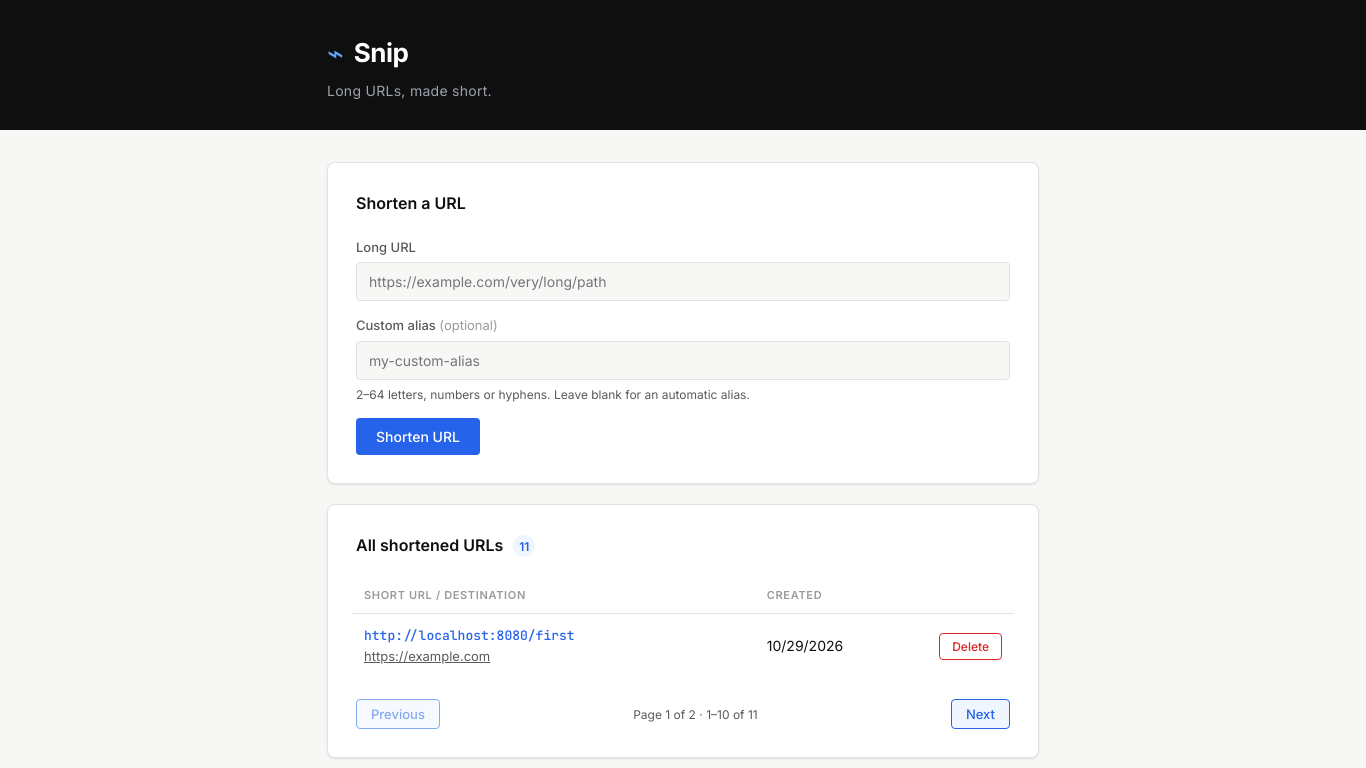
it: application behaviour › shows a created URL and returns to the newest page
Expected: the button with aria-label "Delete first" is shown, left=939, top=633, right=1002, bottom=660
Type "https://example.com" into the field labelled "Long URL" at (683, 282), box left=356, top=262, right=1010, bottom=301
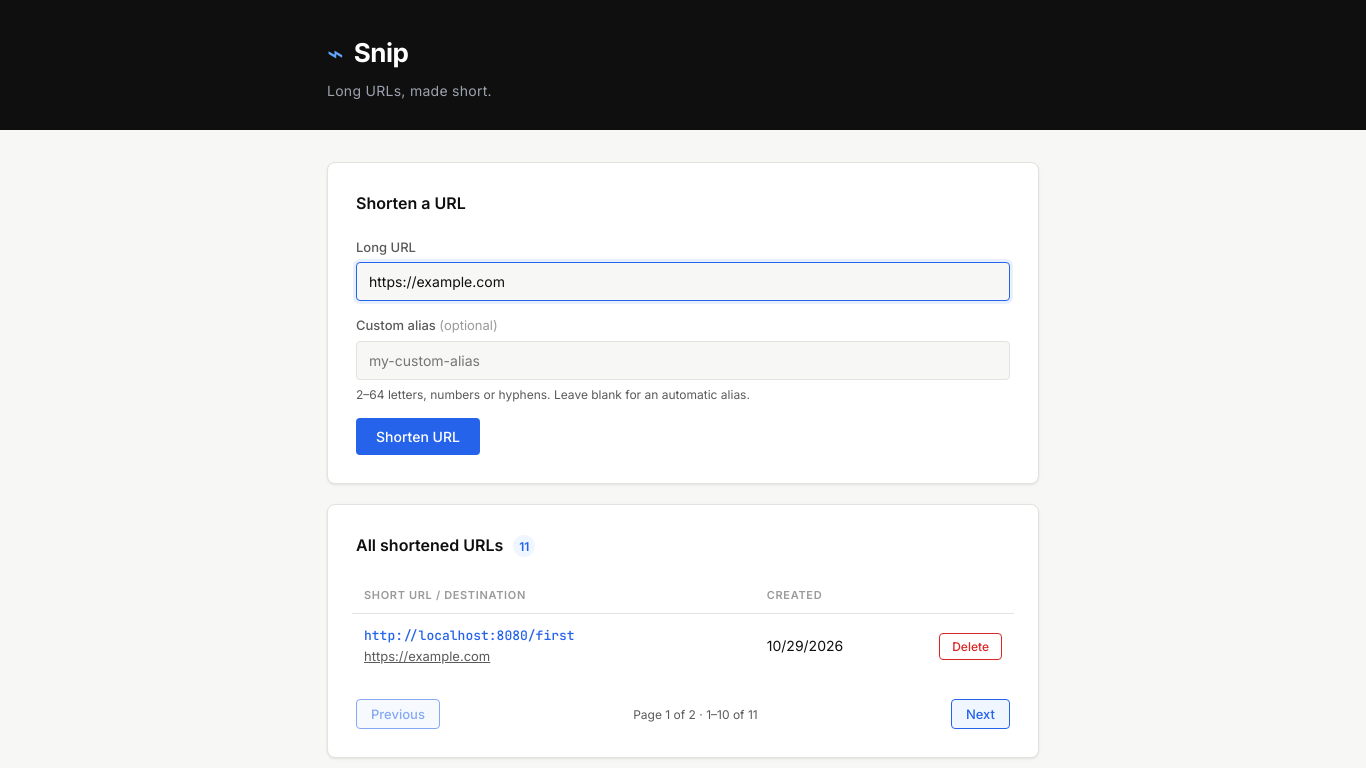
Click the button "Shorten URL" at (418, 437), box left=356, top=418, right=480, bottom=455
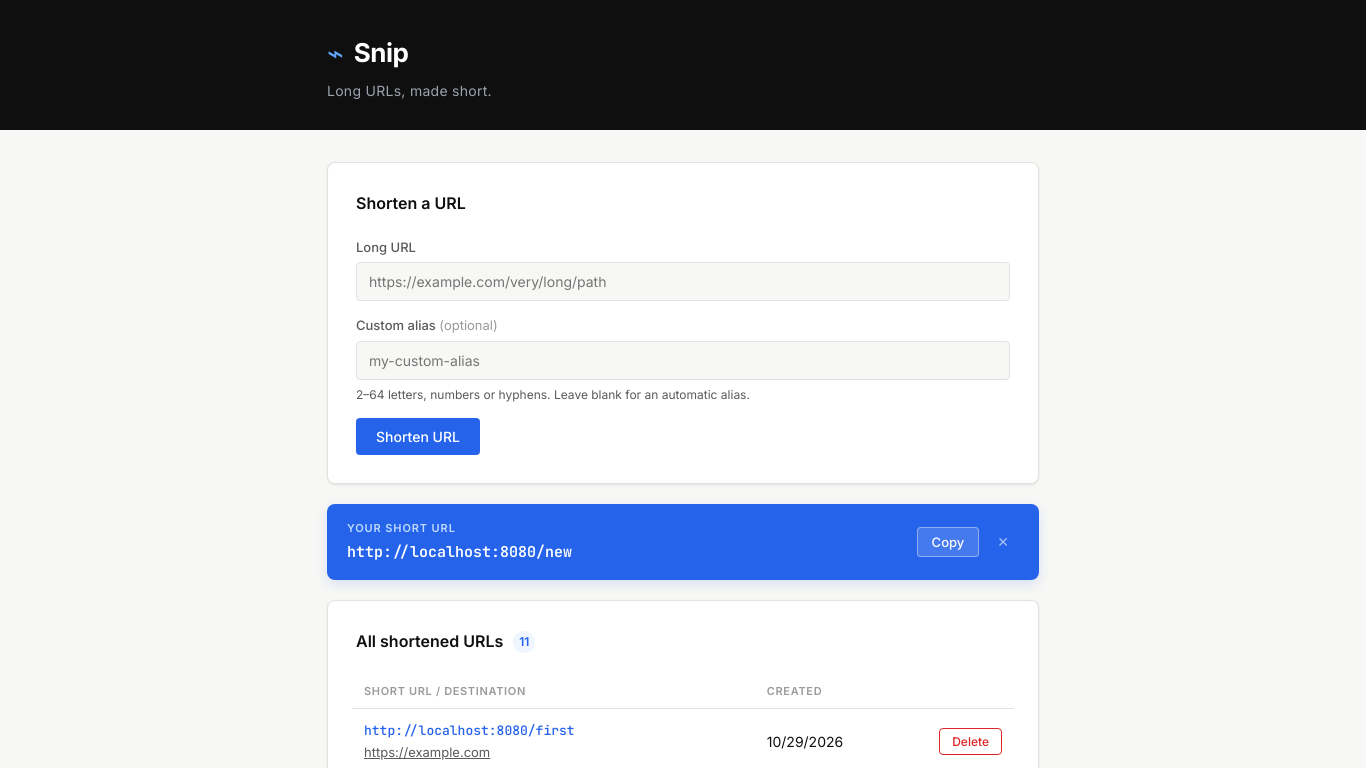
Expected: the link "http://localhost:8080/new" is shown, left=347, top=540, right=572, bottom=564
Expected: the field labelled "Long URL" is empty, left=356, top=262, right=1010, bottom=301
